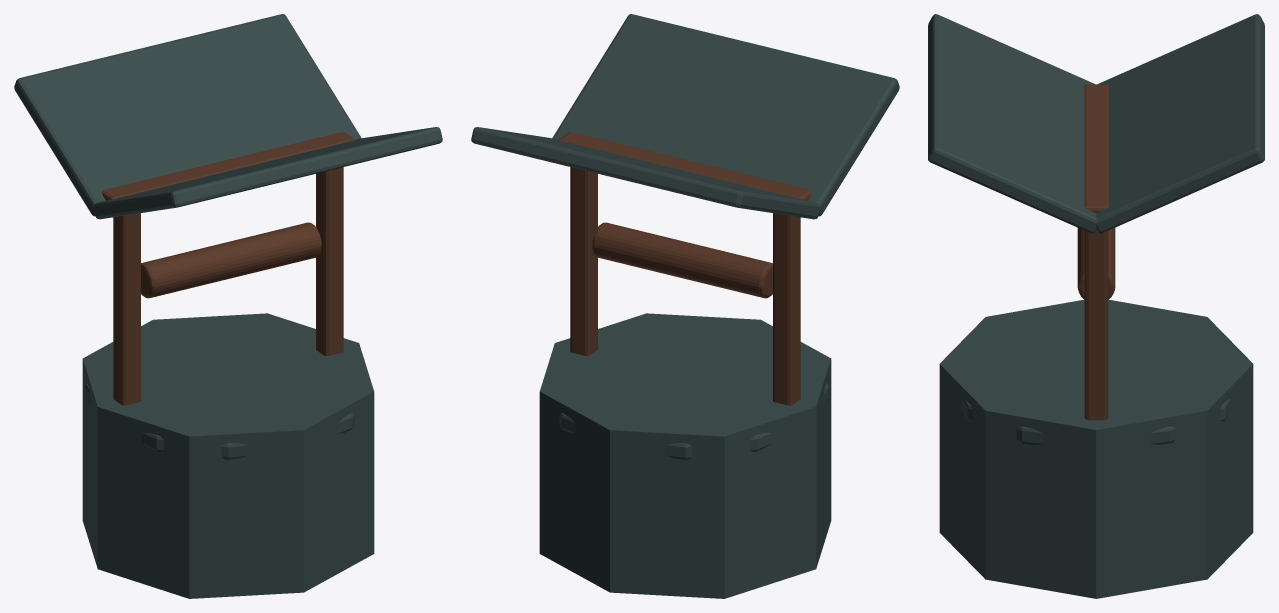
The model's file is previous.glb.
The picture shows the model from 3 angles, left to right: view 1: azimuth 30°, elevation 25°; view 2: azimuth 150°, elevation 25°; view 3: azimuth 270°, elevation 25°; orthographic projection. The views are drawn at different scales.
Visible parts, largest first — view 1: COL_well, VIS_roof_n, VIS_roof_s, VIS_winch, VIS_post_l, VIS_post_r, VIS_ridge, VIS_coping; view 2: COL_well, VIS_roof_s, VIS_roof_n, VIS_winch, VIS_post_l, VIS_post_r, VIS_ridge, VIS_coping; view 3: COL_well, VIS_roof_n, VIS_roof_s, VIS_post_r, VIS_ridge, VIS_coping, VIS_winch.
Boxes of the visible parts, <box> form: COL_well: <box>82,313,374,598</box>; VIS_roof_n: <box>14,14,361,216</box>; VIS_roof_s: <box>93,127,442,219</box>; VIS_winch: <box>141,222,321,298</box>; VIS_post_l: <box>113,213,140,405</box>; VIS_post_r: <box>316,167,343,355</box>; VIS_ridge: <box>102,132,354,217</box>; VIS_coping: <box>85,383,354,459</box>; COL_well: <box>539,313,831,598</box>; VIS_roof_s: <box>552,14,899,216</box>; VIS_roof_n: <box>471,127,820,219</box>; VIS_winch: <box>592,222,772,298</box>; VIS_post_l: <box>773,213,800,405</box>; VIS_post_r: <box>570,167,597,355</box>; VIS_ridge: <box>559,132,811,217</box>; VIS_coping: <box>559,383,828,459</box>; COL_well: <box>939,299,1253,598</box>; VIS_roof_n: <box>1096,14,1264,233</box>; VIS_roof_s: <box>928,14,1096,233</box>; VIS_post_r: <box>1084,230,1108,420</box>; VIS_ridge: <box>1084,84,1108,213</box>; VIS_coping: <box>961,399,1231,444</box>; VIS_winch: <box>1077,228,1115,299</box>.
Size of the model in its own units: 1.65 by 2.54 by 1.72.
